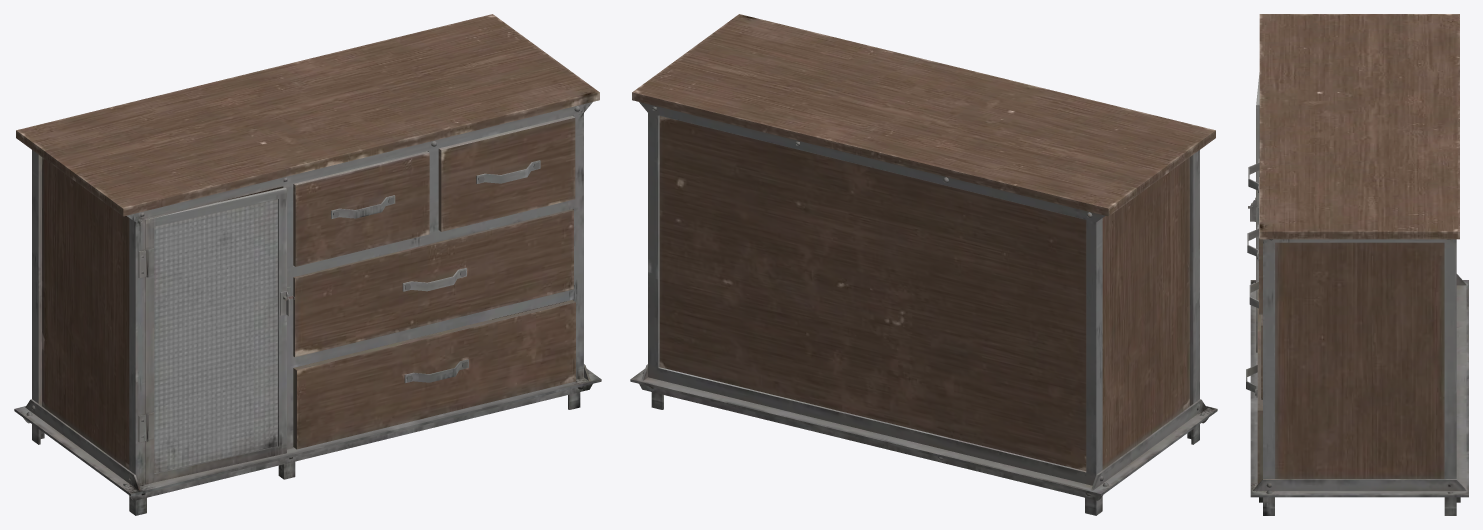
Rendered from WoodenTable_03.glb.
The picture shows the model from 3 angles, left to right: view 1: azimuth 30°, elevation 25°; view 2: azimuth 150°, elevation 25°; view 3: azimuth 270°, elevation 25°; orthographic projection. The views are drawn at different scales.
Visible parts, largest first — view 1: WoodenTable_03_drawer02; view 2: WoodenTable_03_drawer02; view 3: WoodenTable_03_drawer02.
Boxes of the visible parts, x1,y1,x2,y2 form: WoodenTable_03_drawer02: [14, 14, 601, 515]; WoodenTable_03_drawer02: [630, 14, 1217, 515]; WoodenTable_03_drawer02: [1246, 14, 1468, 515].
Bounding box in the file's own units: 1.33 × 0.83 × 0.5739.
1 material, 1 textured.
